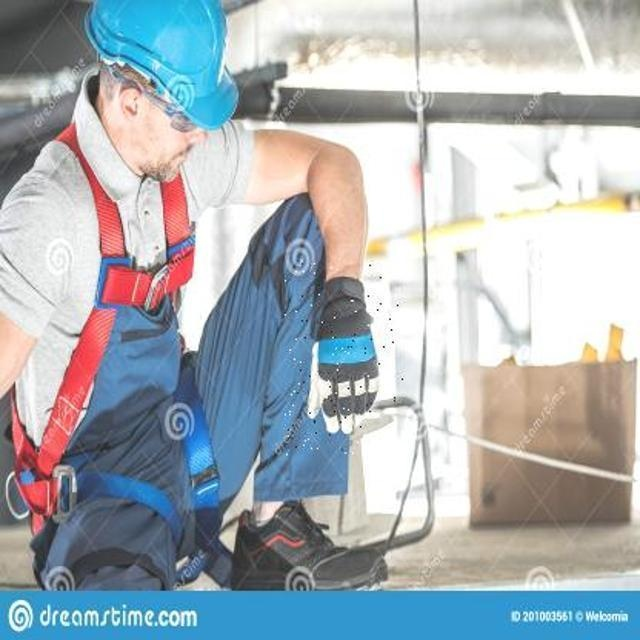Arnes_seguridad: (25, 102, 231, 578)
